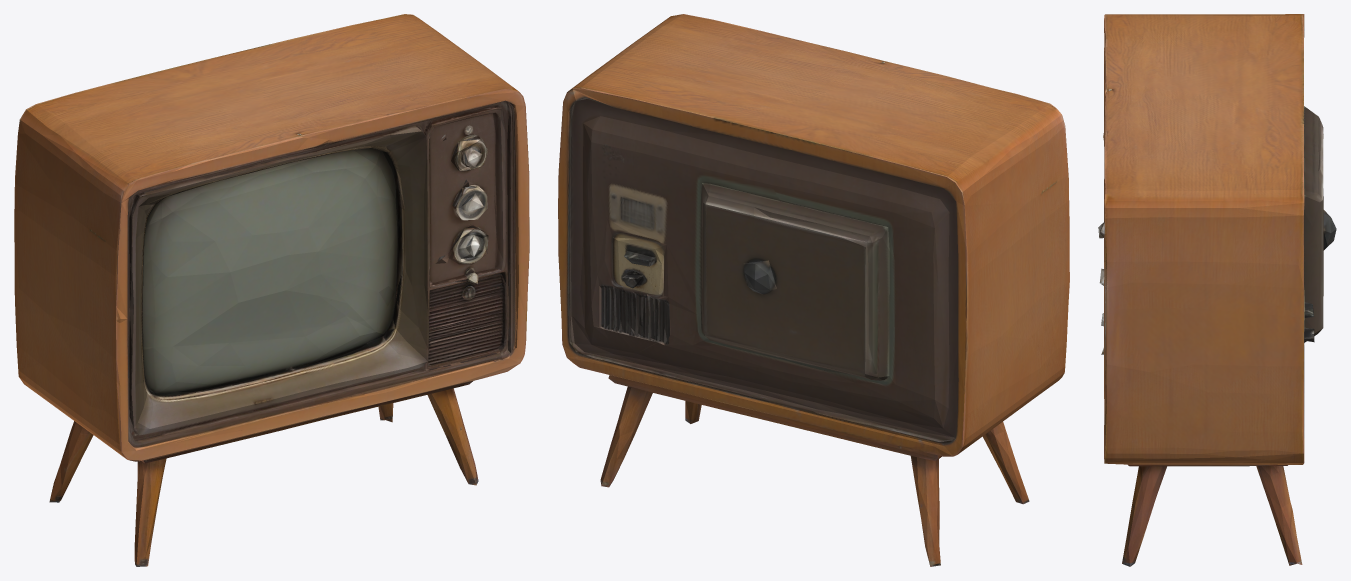
The model's file is 1950s_tv_middle_cla_0401221730_texture.fbx.
The picture shows the model from 3 angles, left to right: view 1: azimuth 30°, elevation 25°; view 2: azimuth 150°, elevation 25°; view 3: azimuth 270°, elevation 25°; orthographic projection. The views are drawn at different scales.
Parts seen in each view (by area): view 1: temp; view 2: temp; view 3: temp.
Boxes of the visible parts, box(x1,y1,x2,y2) form: temp: box(14, 14, 529, 566); temp: box(558, 14, 1069, 566); temp: box(1098, 14, 1336, 566).
Size of the model in its own units: 200 by 186 by 103.
1 material, 1 textured.
